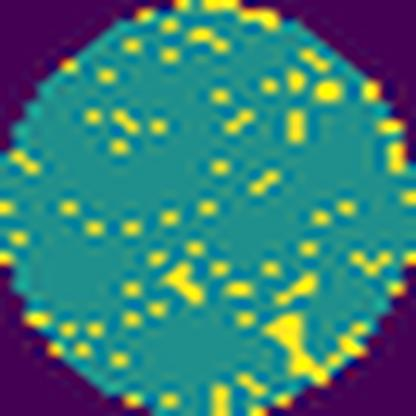Loc: (262, 313, 330, 380), (168, 266, 205, 310)
